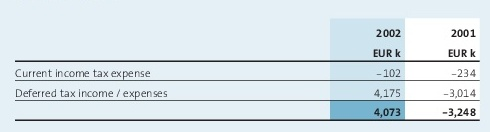table: (0, 0, 490, 132)
